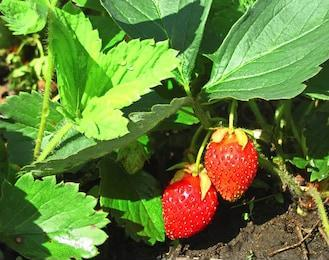Fresa: (160, 158, 220, 242), (203, 123, 261, 208)
